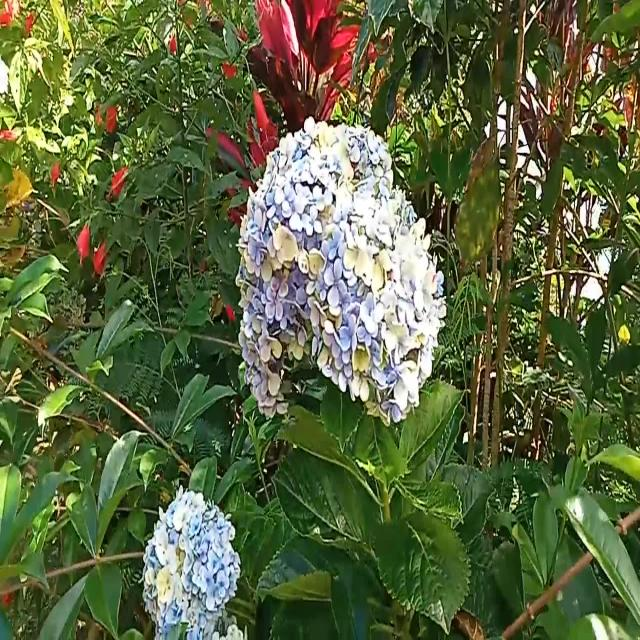Flower: (234, 115, 452, 427), (140, 481, 243, 635)
